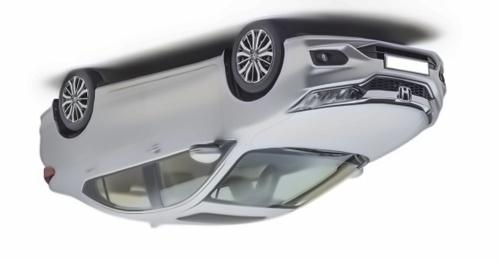Car hood: (257, 101, 432, 161)
Fender - -F-L-: (215, 48, 304, 148)
Fender - -R-L-: (44, 85, 99, 200)
Front bumper: (280, 31, 458, 97)
Headlight - -L-: (287, 82, 369, 116)
Headlight - -R-: (417, 104, 443, 128)
Passenger-s door - -F-L-: (144, 62, 238, 220)
Passenger-s door - -R-L-: (73, 85, 159, 224)
Rear bumper: (33, 94, 65, 155)
Rear light - -L-: (39, 165, 60, 189)
Side bumper - -L-: (79, 51, 229, 100)
Side mirror - -L-: (180, 137, 227, 170)
Side mirror - -R-: (345, 162, 368, 185)
